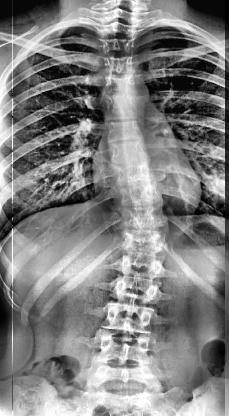Vertebrae: (102, 302, 158, 334), (110, 275, 164, 305), (96, 335, 150, 365), (119, 248, 168, 278), (116, 182, 164, 208), (121, 204, 168, 230), (119, 228, 169, 252), (102, 92, 144, 120), (113, 161, 156, 187), (105, 118, 147, 144), (107, 140, 151, 164), (103, 73, 139, 95), (102, 53, 136, 76), (99, 37, 134, 55)
